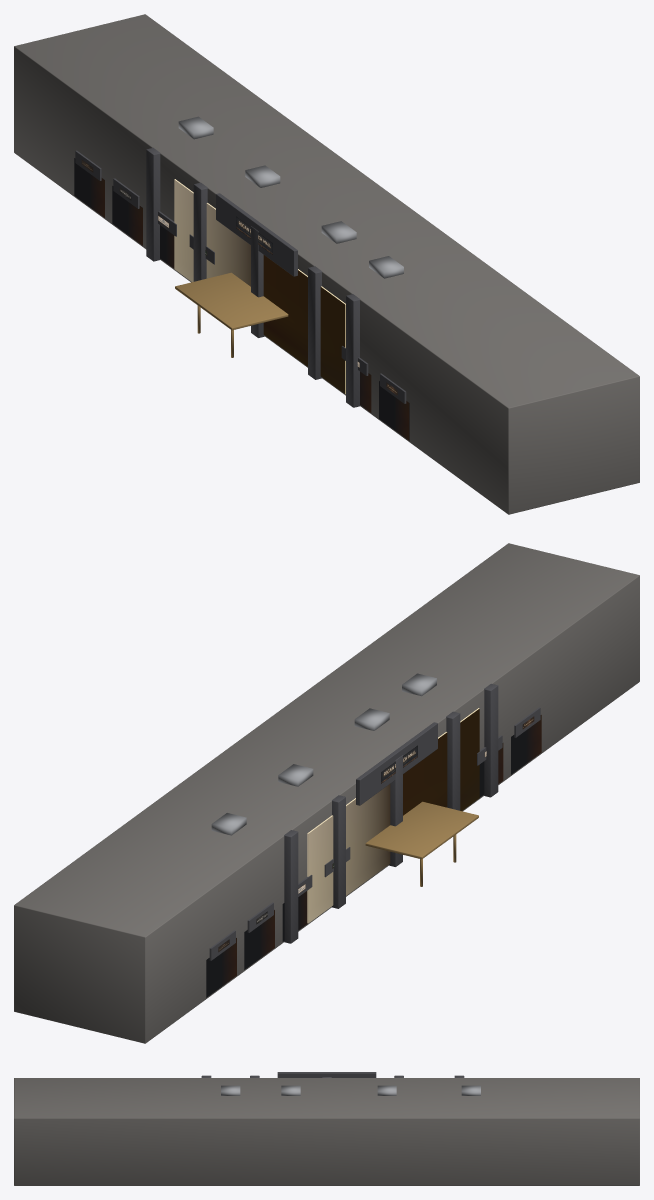
File: mall.glb
3 renders of one model, top to bottom at view 1: azimuth 30°, elevation 25°; view 2: azimuth 150°, elevation 25°; view 3: azimuth 270°, elevation 25°, orthographic. The views are drawn at different scales.
Visible parts, largest first — view 1: MallBody, MallGlass, Canopy, MallSignBack, Pylon_28, Pylon_-14, Pylon_-6, Pylon_18, StoreGlass_metro, StoreGlass_willow, StoreGlass_copper, Pylon_6; view 2: MallBody, MallGlass, Canopy, MallSignBack, Pylon_28, Pylon_-14, Pylon_18, Pylon_-6, StoreGlass_copper, StoreGlass_metro, StoreGlass_willow, Pylon_6; view 3: MallBody, MallSignBack, HVAC_1, HVAC_0, HVAC_2, HVAC_3.
Part boxes in pixels (bbox=[...]): MallBody: bbox=[14, 14, 639, 514]; MallGlass: bbox=[174, 179, 345, 394]; Canopy: bbox=[175, 272, 288, 330]; MallSignBack: bbox=[216, 193, 297, 276]; Pylon_28: bbox=[146, 147, 160, 261]; Pylon_-14: bbox=[346, 294, 360, 407]; Pylon_-6: bbox=[308, 266, 321, 379]; Pylon_18: bbox=[193, 182, 207, 281]; StoreGlass_metro: bbox=[112, 186, 142, 245]; StoreGlass_willow: bbox=[74, 158, 104, 217]; StoreGlass_copper: bbox=[379, 381, 409, 440]; Pylon_6: bbox=[251, 226, 264, 337]; MallBody: bbox=[14, 543, 639, 1043]; MallGlass: bbox=[307, 708, 479, 923]; Canopy: bbox=[365, 801, 478, 859]; MallSignBack: bbox=[356, 722, 437, 805]; Pylon_28: bbox=[284, 830, 298, 943]; Pylon_-14: bbox=[484, 683, 498, 797]; Pylon_18: bbox=[332, 795, 345, 908]; Pylon_-6: bbox=[446, 711, 460, 810]; StoreGlass_copper: bbox=[511, 715, 541, 774]; StoreGlass_metro: bbox=[244, 910, 274, 969]; StoreGlass_willow: bbox=[206, 938, 236, 997]; Pylon_6: bbox=[389, 755, 402, 866]; MallBody: bbox=[14, 1078, 639, 1185]; MallSignBack: bbox=[277, 1072, 376, 1077]; HVAC_1: bbox=[281, 1085, 300, 1095]; HVAC_0: bbox=[221, 1085, 240, 1095]; HVAC_2: bbox=[377, 1085, 396, 1095]; HVAC_3: bbox=[461, 1085, 480, 1095].
Size of the model in its own units: 23 by 13.2 by 104.
13 materials, 9 textured.
